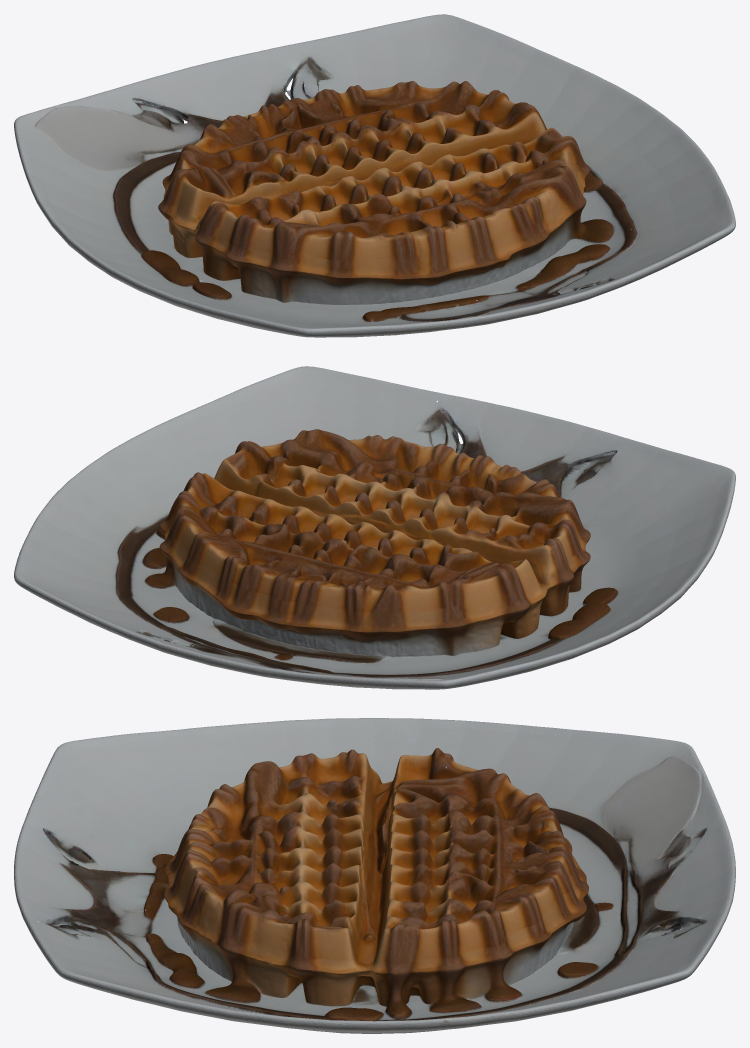
File: waffle-v1.glb
3 renders of one model, top to bottom at view 1: azimuth 30°, elevation 25°; view 2: azimuth 150°, elevation 25°; view 3: azimuth 270°, elevation 25°, orthographic. The views are drawn at different scales.
Visible parts, largest first — view 1: tripo_node_28dc97be-c3a8-4c14-87e7-2e19d5c8720e; view 2: tripo_node_28dc97be-c3a8-4c14-87e7-2e19d5c8720e; view 3: tripo_node_28dc97be-c3a8-4c14-87e7-2e19d5c8720e.
Boxes of the visible parts, box(x1,y1,x2,y2) form: tripo_node_28dc97be-c3a8-4c14-87e7-2e19d5c8720e: box(14, 14, 735, 337); tripo_node_28dc97be-c3a8-4c14-87e7-2e19d5c8720e: box(14, 366, 735, 689); tripo_node_28dc97be-c3a8-4c14-87e7-2e19d5c8720e: box(14, 718, 735, 1033).
Bounding box in the file's own units: 1 × 0.1364 × 1.
Materials: 1 (1 with a texture image).
